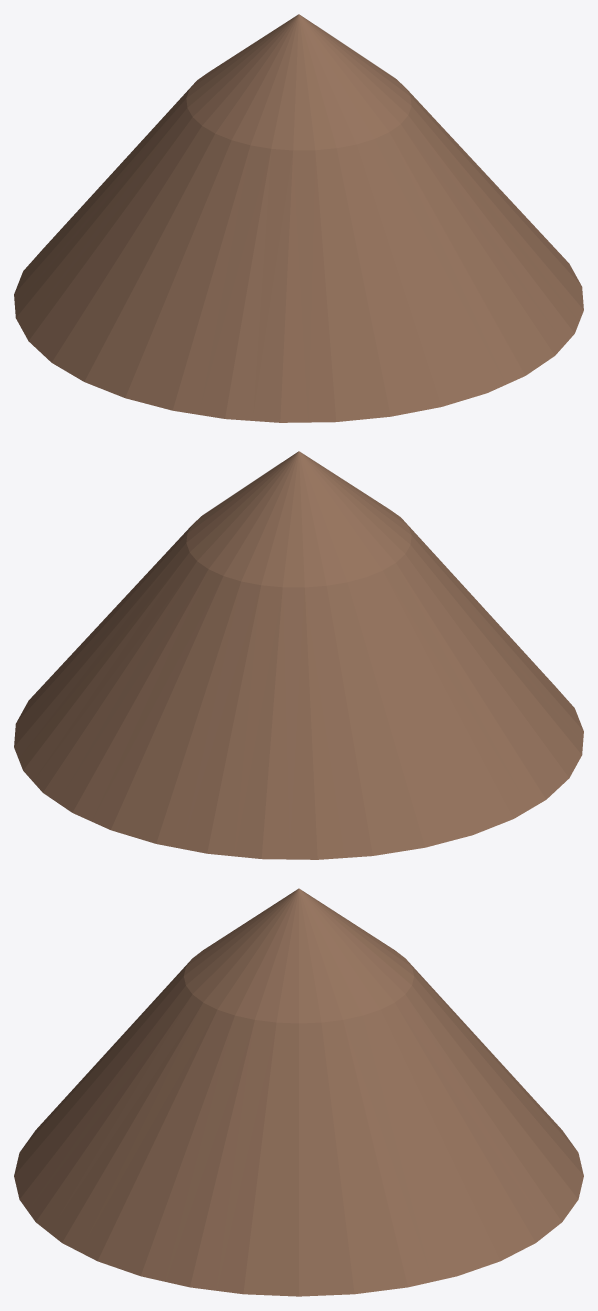
The model's file is shroomcrush.gltf.
3 views of the same model, one above another, from view 1: azimuth 30°, elevation 25°; view 2: azimuth 150°, elevation 25°; view 3: azimuth 270°, elevation 25° (orthographic).
Parts seen in each view (by area): view 1: powder; view 2: powder; view 3: powder.
Part boxes in pixels (bbox=[...]): powder: bbox=[14, 14, 583, 422]; powder: bbox=[14, 451, 583, 859]; powder: bbox=[14, 888, 583, 1296].
Size of the model in its own units: 5.69 by 3.17 by 5.69.
1 material, 1 textured.
